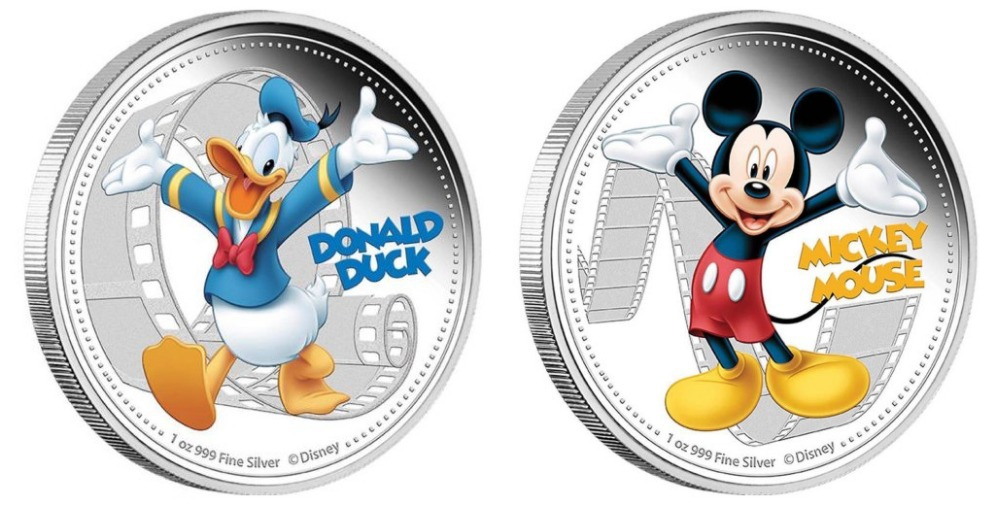Mickey: (698, 65, 849, 234)
